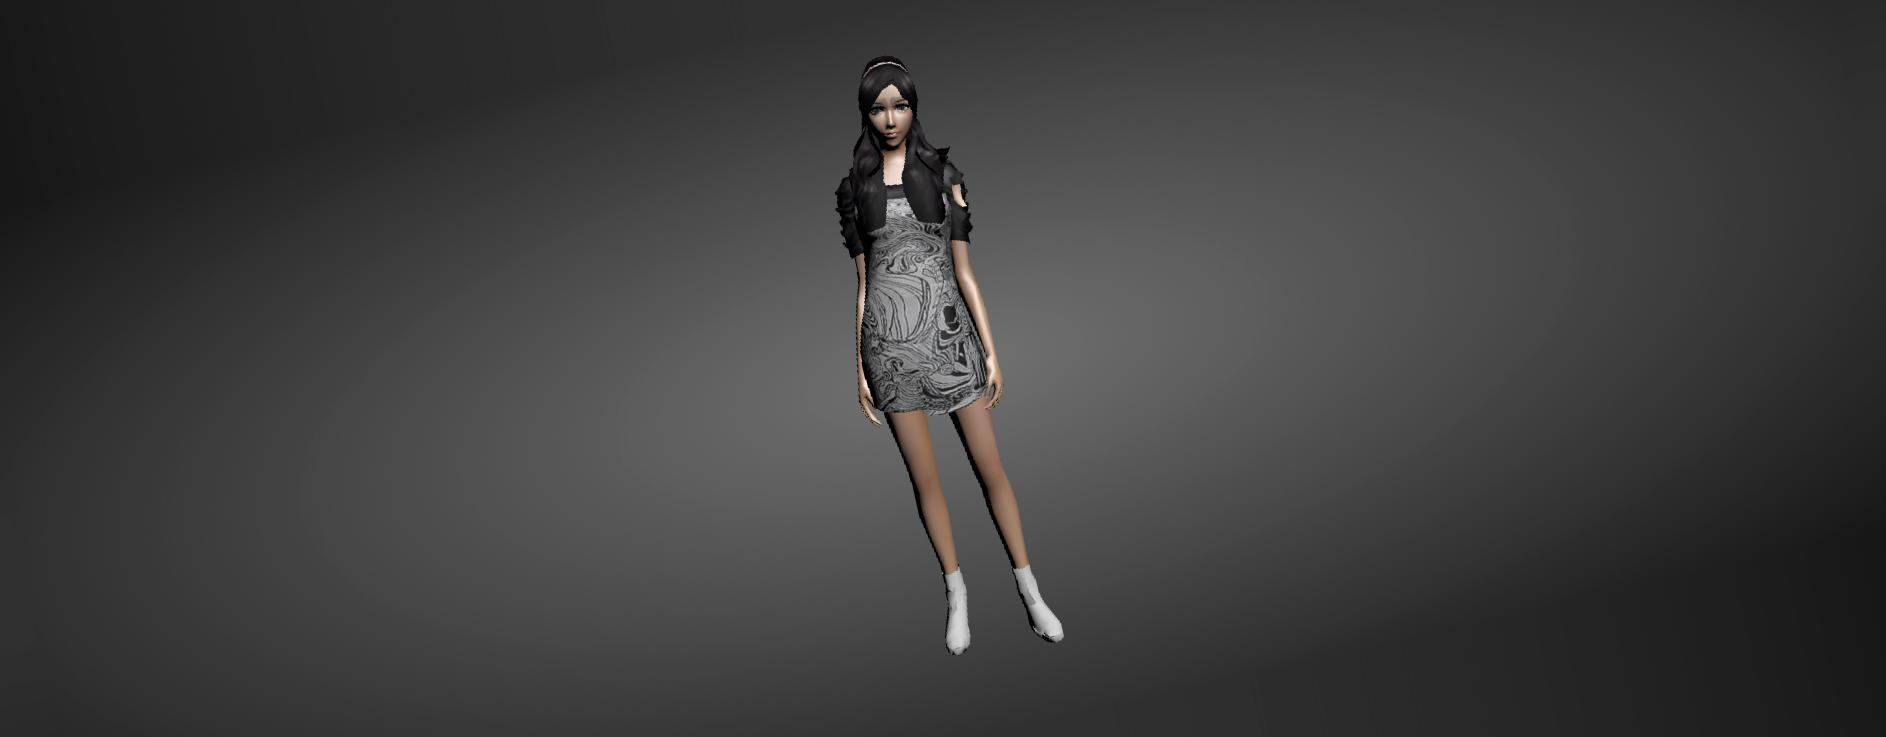clip: (944, 173, 968, 215)
